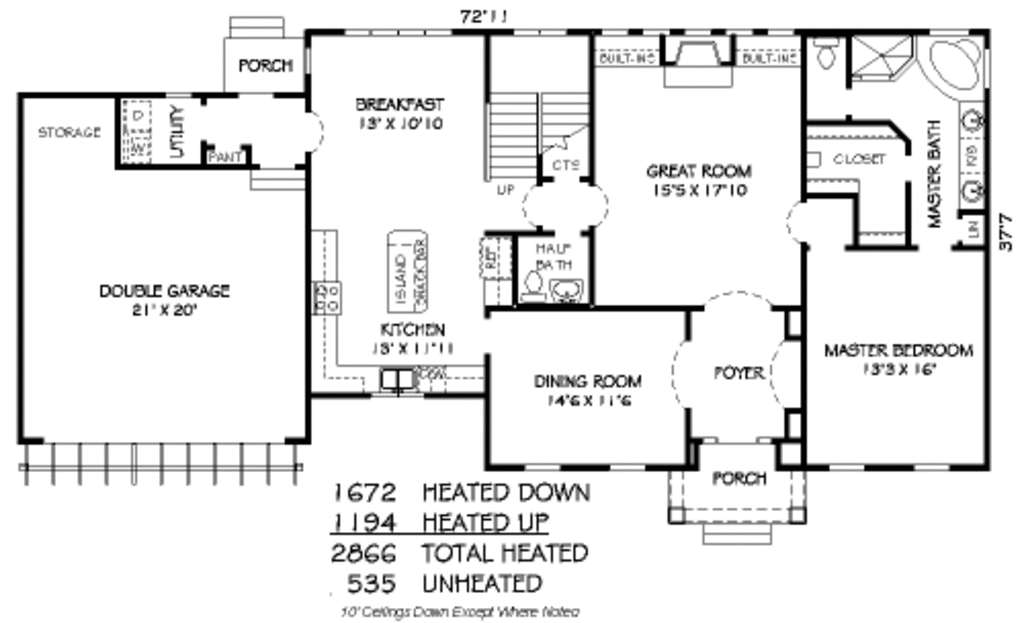kitchen_bar: (376, 221, 440, 328)
large_sink: (808, 33, 849, 81), (517, 266, 548, 306)
small_sink: (958, 102, 993, 214), (550, 272, 586, 302)
stairs: (479, 90, 595, 179)
twin_sink: (375, 367, 433, 395)
window: (821, 463, 865, 470), (519, 465, 562, 470), (605, 463, 641, 467), (916, 466, 953, 468)
